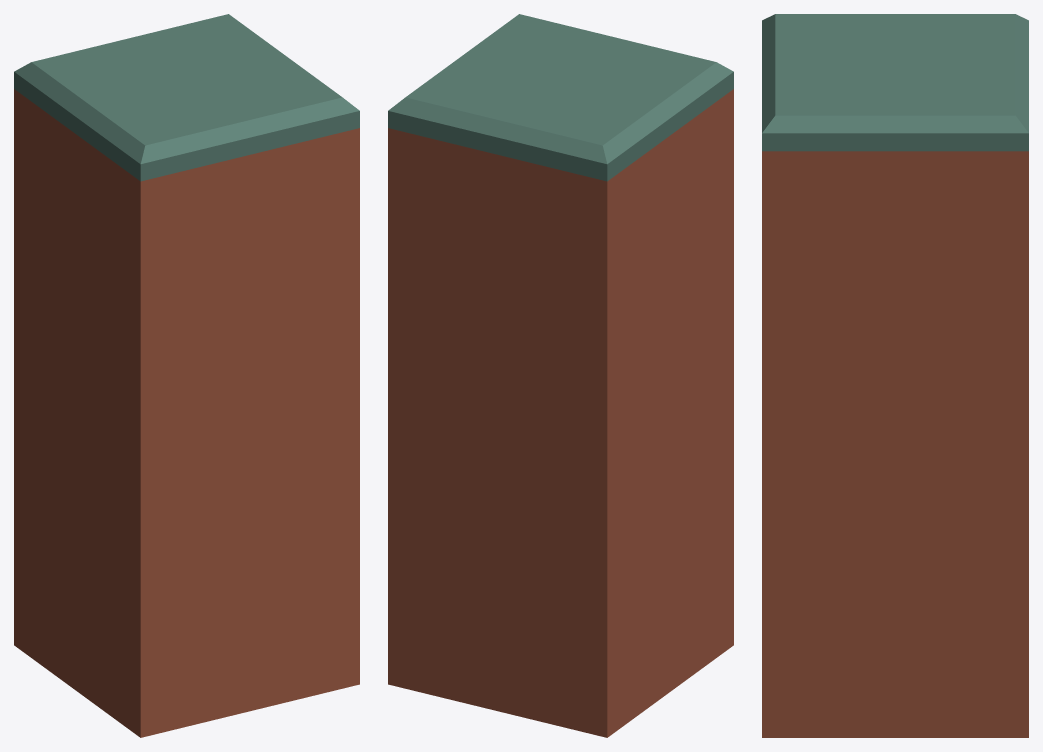
File: Path1.fbx
3 renders of one model, left to right at view 1: azimuth 30°, elevation 25°; view 2: azimuth 150°, elevation 25°; view 3: azimuth 270°, elevation 25°, orthographic. The views are drawn at different scales.
Visible parts, largest first — view 1: Cube; view 2: Cube; view 3: Cube.
Boxes of the visible parts, x1,y1,x2,y2 form: Cube: (14, 14, 359, 737); Cube: (388, 14, 733, 737); Cube: (762, 14, 1028, 737).
Bounding box in the file's own units: 2 × 5.1 × 2.
